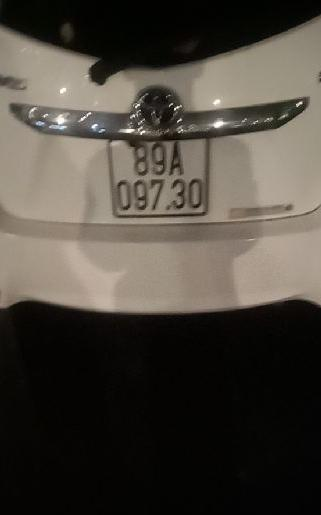Plate-iWeP: (112, 137, 209, 218)
